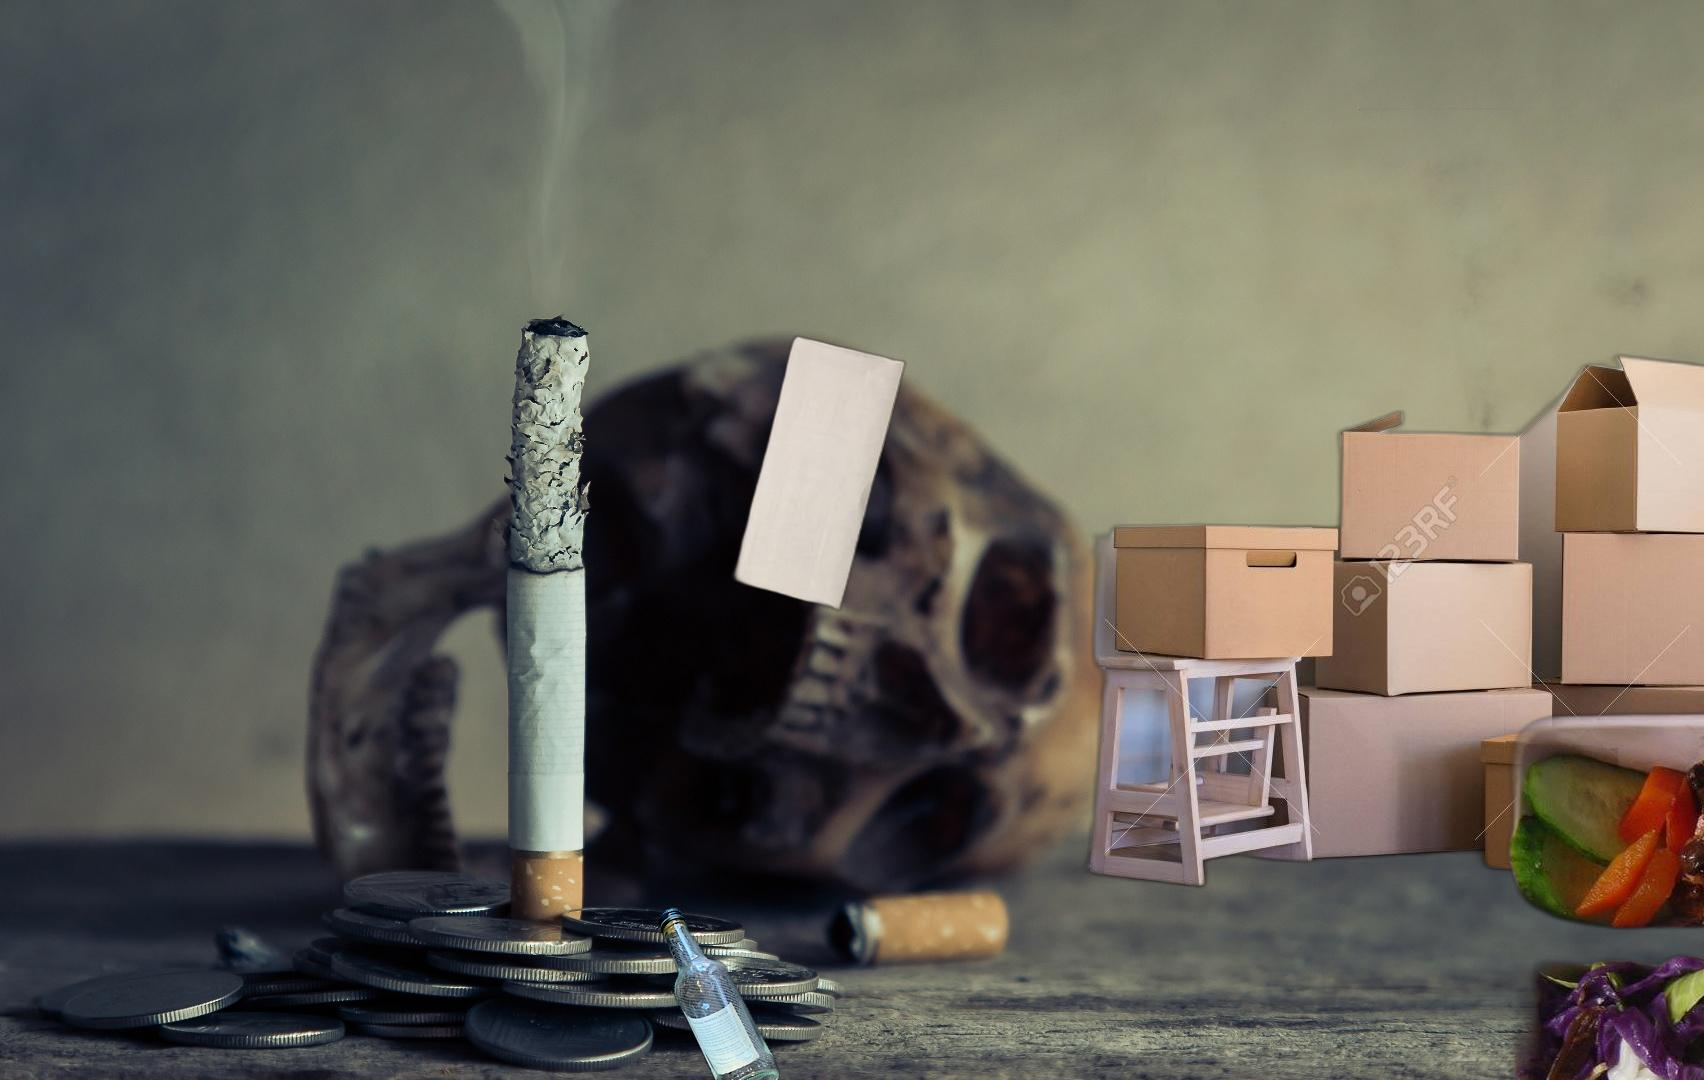biological: (1500, 706, 1704, 1080)
glass: (653, 901, 785, 1080)
paper: (727, 334, 910, 614)
trashbox-cardboard: (1066, 348, 1704, 894), (1357, 108, 1704, 492)
